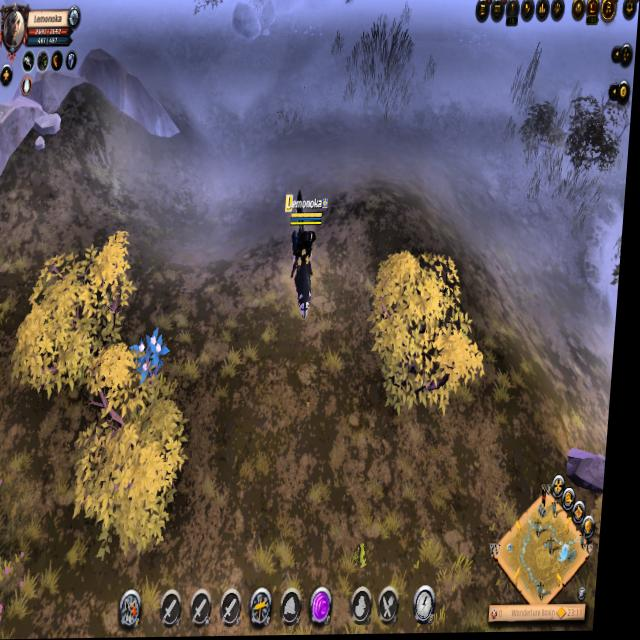fiber tier 4: (132, 327, 178, 387)
